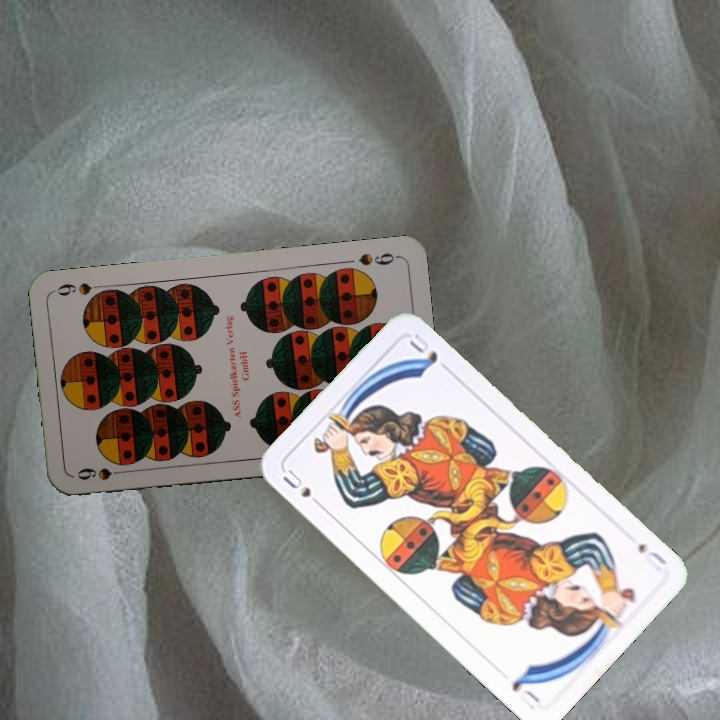S9: (73, 463, 131, 483), (354, 249, 401, 268)
SU: (278, 465, 327, 512), (633, 539, 670, 572)
